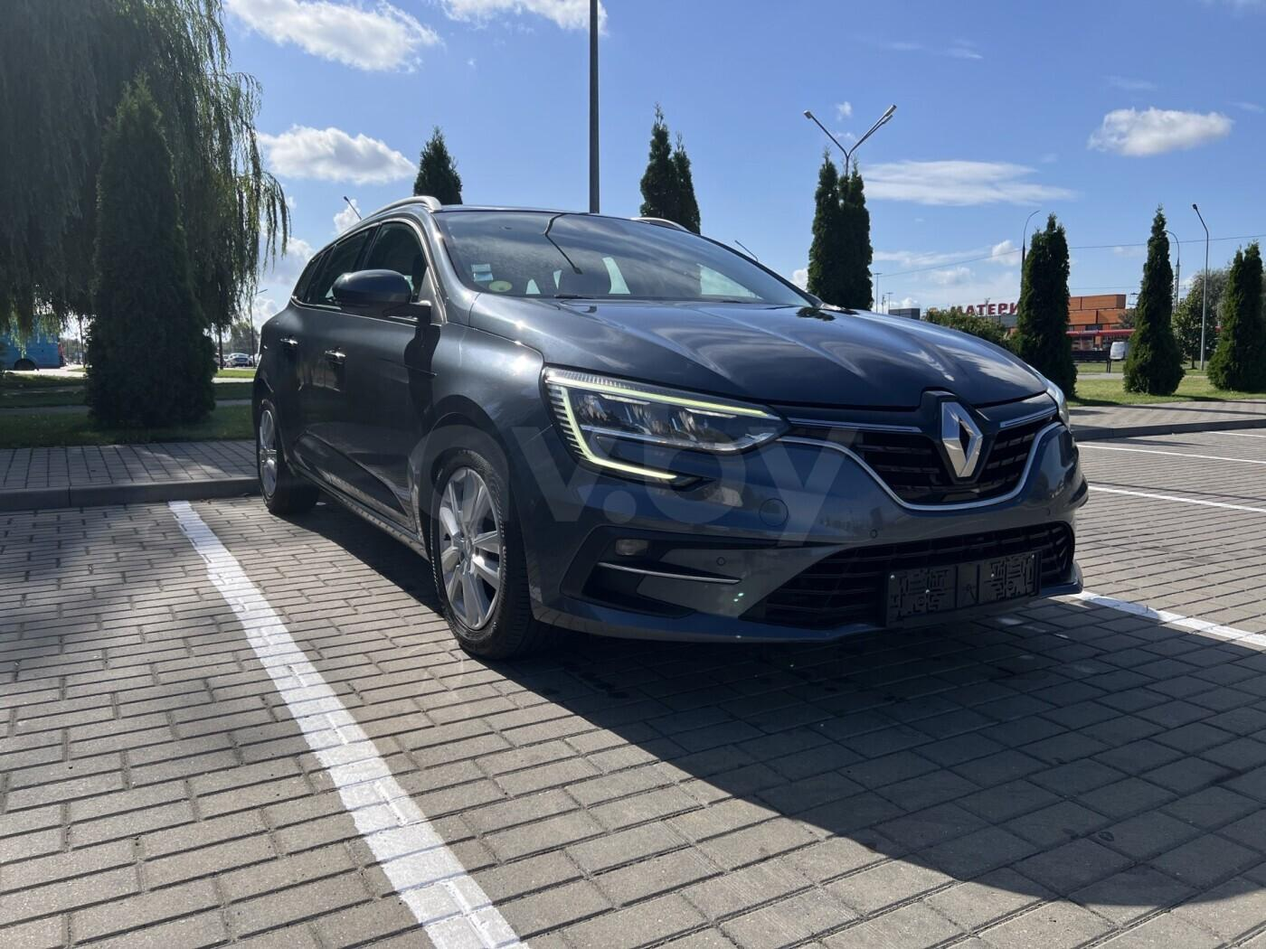Megane_2020: (244, 192, 1095, 660)
